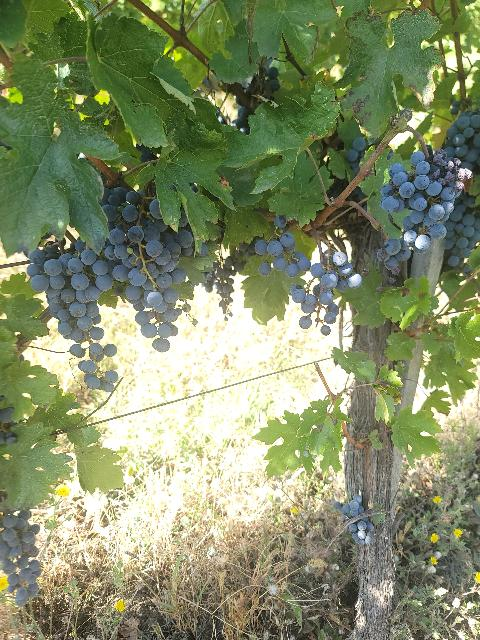grapes: (26, 239, 118, 389), (109, 189, 194, 351), (380, 149, 472, 260), (290, 249, 362, 334), (444, 110, 480, 268), (0, 510, 42, 606)
